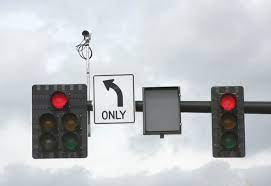red: (31, 84, 88, 159), (210, 86, 246, 158)
